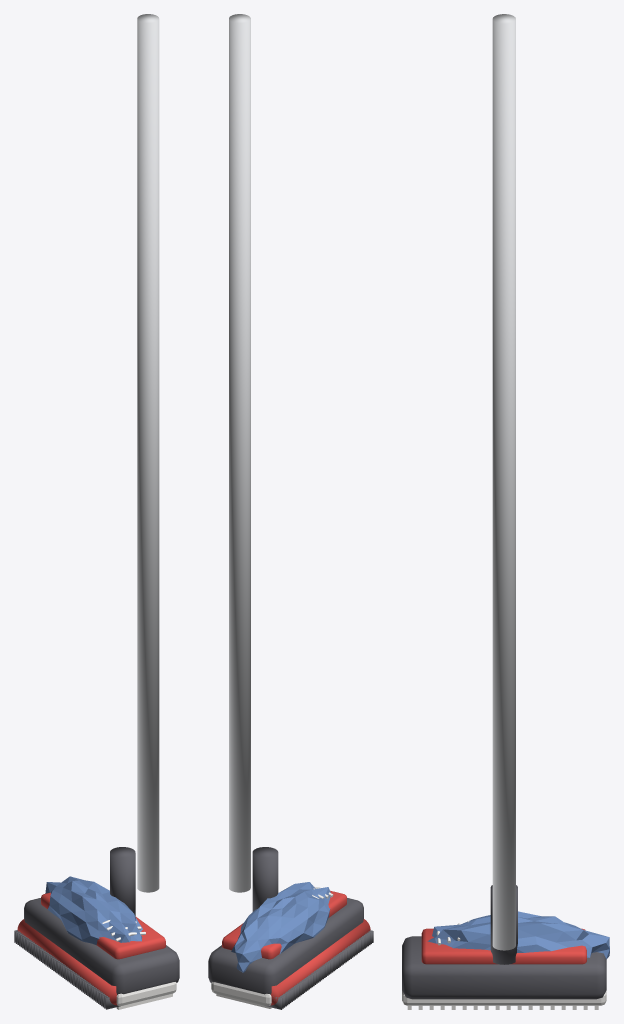
Rendered from props.glb.
3 renders of one model, left to right at view 1: azimuth 30°, elevation 25°; view 2: azimuth 150°, elevation 25°; view 3: azimuth 270°, elevation 25°, orthographic. The views are drawn at different scales.
Parts seen in each view (by area): view 1: KEEP Vacuum, KEEP Shoe; view 2: KEEP Vacuum, KEEP Shoe; view 3: KEEP Vacuum, KEEP Shoe.
Boxes of the visible parts, x1,y1,x2,y2 form: KEEP Vacuum: [14, 14, 179, 1009]; KEEP Shoe: [45, 876, 176, 1009]; KEEP Vacuum: [208, 14, 373, 1009]; KEEP Shoe: [211, 882, 333, 1008]; KEEP Vacuum: [402, 14, 606, 999]; KEEP Shoe: [402, 911, 609, 1009].
Size of the model in its own units: 61 by 562 by 106.
